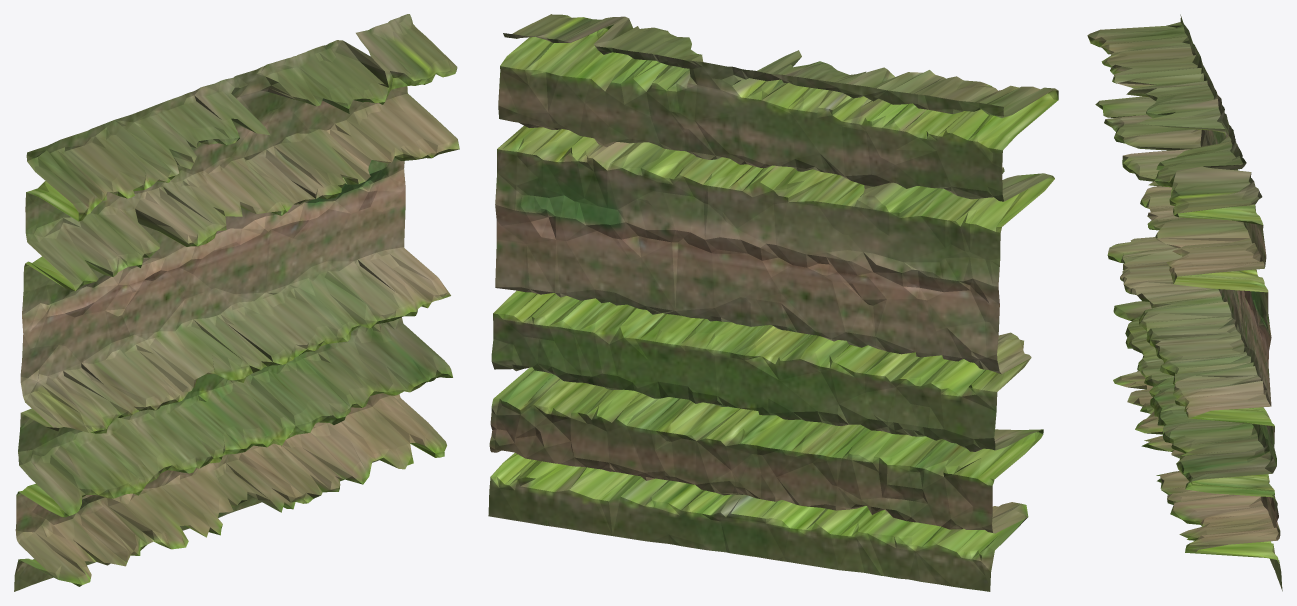
Rendered from map_250_40.obj.
3 renders of one model, left to right at view 1: azimuth 30°, elevation 25°; view 2: azimuth 150°, elevation 25°; view 3: azimuth 270°, elevation 25°, orthographic. The views are drawn at different scales.
Parts seen in each view (by area): view 1: grp1; view 2: grp1; view 3: grp1.
Boxes of the visible parts, <box> form: grp1: <box>14,14,459,591</box>; grp1: <box>488,14,1058,591</box>; grp1: <box>1087,14,1282,591</box>.
Bounding box in the file's own units: 10 × 10 × 4.49.
1 material, 1 textured.
